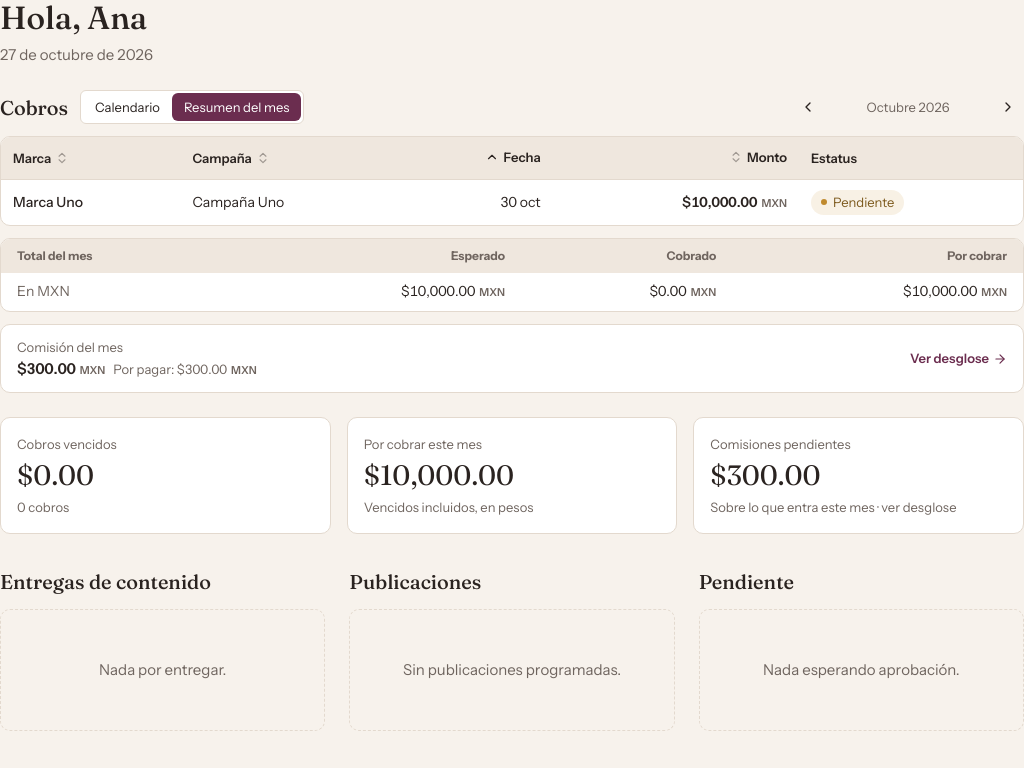
Test case: Inicio · comisiones › Ver desglose del resumen abre el panel
Click the button "Ver desglose" at (70, 347), box x1=0 y1=324 x2=1023 y2=393
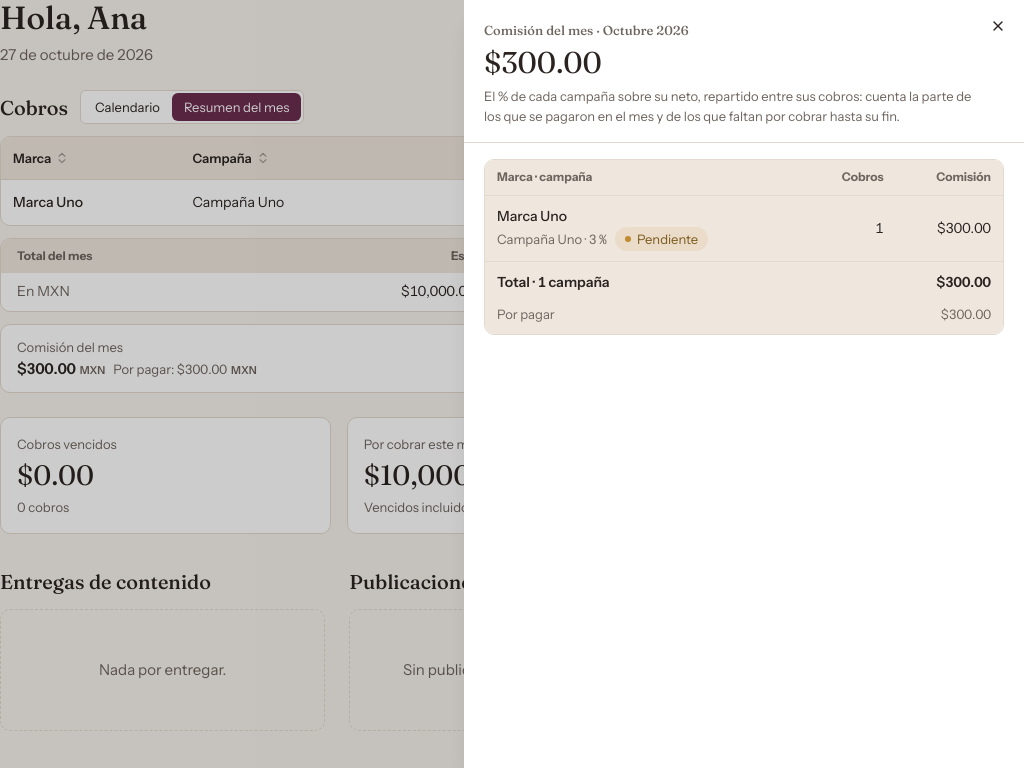
Now the dialog is shown, box x1=464 y1=0 x2=1023 y2=767
